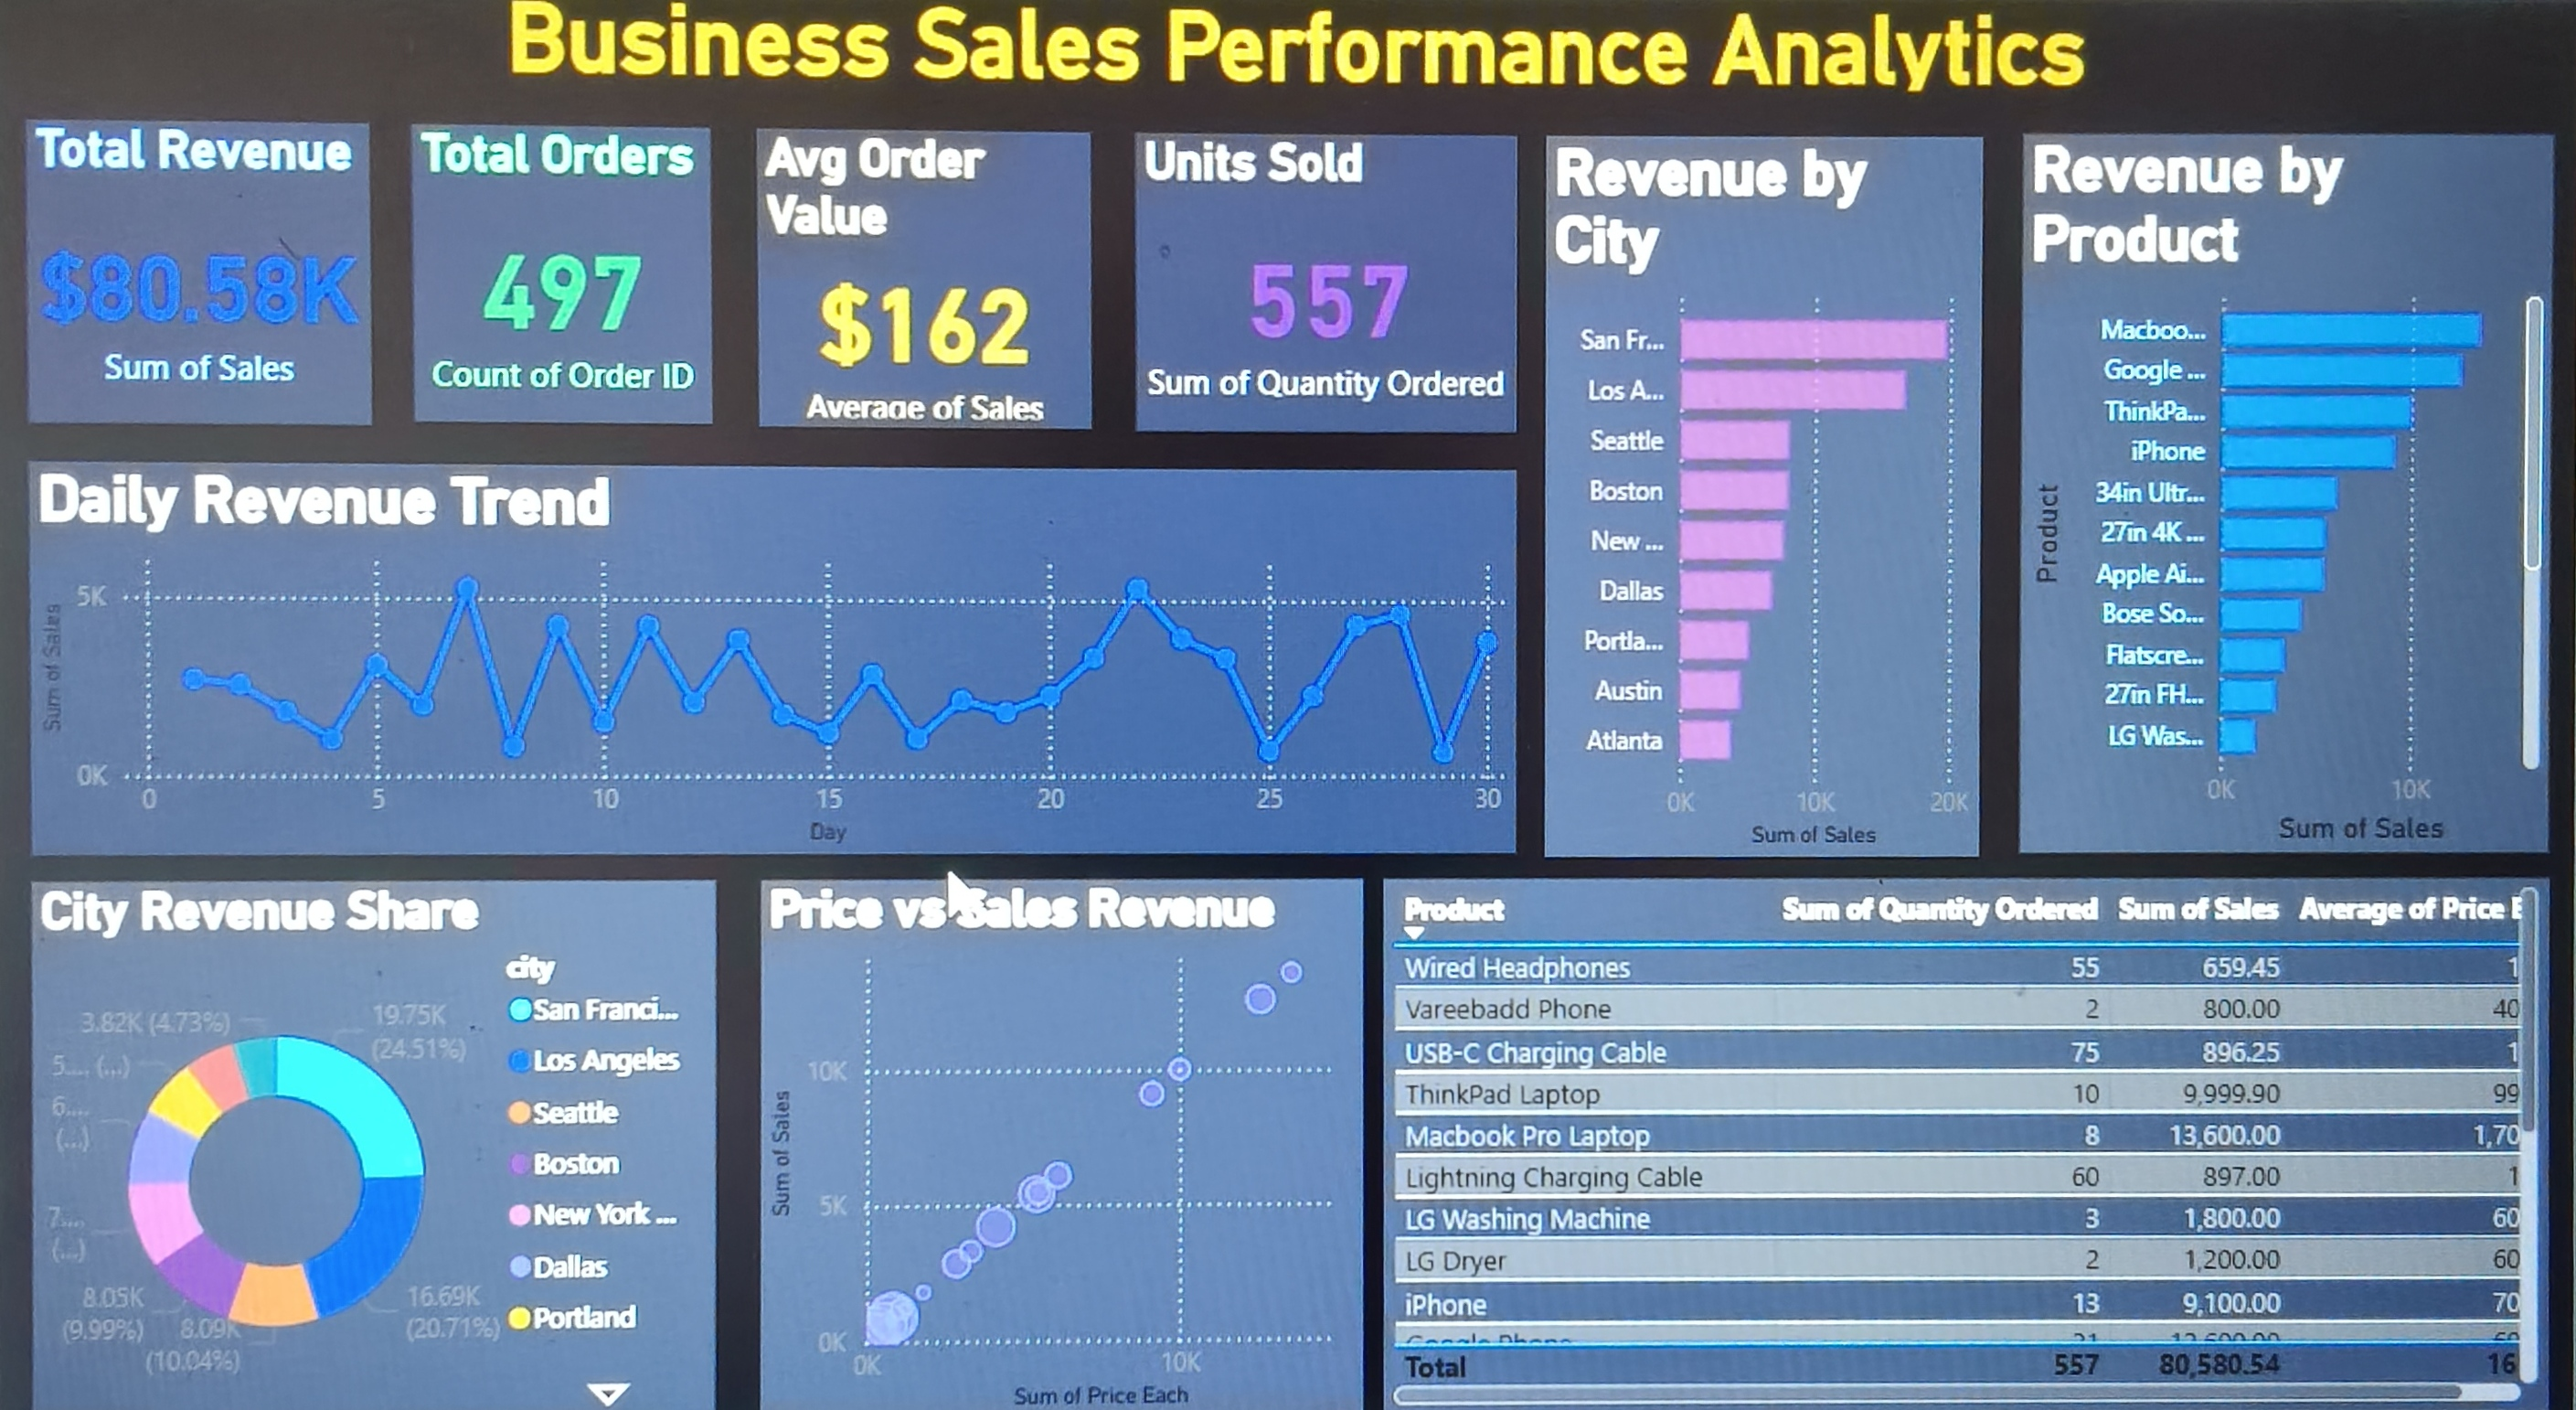

The dashboard page shown, as its layout file describes it:
{"tool":"powerbi","page":{"name":"Page 1","canvas":[1280,720],"ordinal":0},"visuals":[{"type":"card","title":"Total Revenue","fields":{"Values":["Sum(Business Sales Analysis.Sales)"]},"box":[17.2,68.8,165.7,148.5],"z":0},{"type":"card","title":"Total Orders","fields":{"Values":["CountNonNull(Business Sales Analysis.Order ID)"]},"box":[201.6,68.8,146.9,146.9],"z":1000},{"type":"card","title":"Avg Order Value","fields":{"Values":["Avg(Business Sales Analysis.Sales)"]},"box":[368,68,166,148],"z":2000},{"type":"card","title":"Units Sold","fields":{"Values":["Sum(Business Sales Analysis.Quantity Ordered)"]},"box":[554.9,68.8,192.2,148.5],"z":3000},{"type":"lineChart","title":"Daily Revenue Trend","fields":{"Y":["Sum(Business Sales Analysis.Sales)"],"Category":["Business Sales Analysis.Order Date.Variation.Date Hierarchy.Day"]},"box":[17.2,234.4,729.9,193.8],"z":4000},{"type":"clusteredBarChart","title":"Revenue by City","fields":{"Category":["Business Sales Analysis.city"],"Y":["Sum(Business Sales Analysis.Sales)"]},"box":[759.6,68.8,220.4,361.1],"z":5000},{"type":"clusteredBarChart","title":"Revenue by Product","fields":{"Category":["Business Sales Analysis.Product"],"Y":["Sum(Business Sales Analysis.Sales)"]},"box":[998.7,67.2,268.8,361.1],"z":6000},{"type":"donutChart","title":"City Revenue Share","fields":{"Category":["Business Sales Analysis.city"],"Y":["Sum(Business Sales Analysis.Sales)"]},"box":[17.2,439.2,331.4,268.8],"z":7000},{"type":"scatterChart","title":"Price vs Sales Revenue","fields":{"X":["Sum(Business Sales Analysis.Price Each)"],"Y":["Sum(Business Sales Analysis.Sales)"],"Category":["Business Sales Analysis.Product"],"Size":["Sum(Business Sales Analysis.Quantity Ordered)"]},"box":[368.9,439.2,301.7,270.4],"z":8000},{"type":"tableEx","fields":{"Values":["Business Sales Analysis.Product","Sum(Business Sales Analysis.Quantity Ordered)","Sum(Business Sales Analysis.Sales)","Avg(Business Sales Analysis.Price Each)"]},"box":[678.3,439.2,589.2,270.4],"z":9000},{"type":"textbox","title":"Business Sales Performance Analytics","box":[0,0,1280.1,46.9],"z":10000}]}

Visuals, with their boxes in screenshot pixels (x1, y1, x2, y2), scaled from the page's 1280x720 canvas onto the 2576x1410 screenshot:
"Total Revenue" card: [35,134,368,425]
"Total Orders" card: [406,134,701,422]
"Avg Order Value" card: [740,134,1075,423]
"Units Sold" card: [1117,134,1504,425]
"Daily Revenue Trend" lineChart: [35,459,1504,839]
"Revenue by City" clusteredBarChart: [1528,134,1973,842]
"Revenue by Product" clusteredBarChart: [2010,132,2550,839]
"City Revenue Share" donutChart: [35,860,701,1386]
"Price vs Sales Revenue" scatterChart: [742,860,1349,1390]
tableEx - Business Sales Analysis.Product x Sum(Business Sales Analysis.Quantity Ordered): [1365,860,2550,1390]
"Business Sales Performance Analytics" textbox: [0,0,2575,91]
